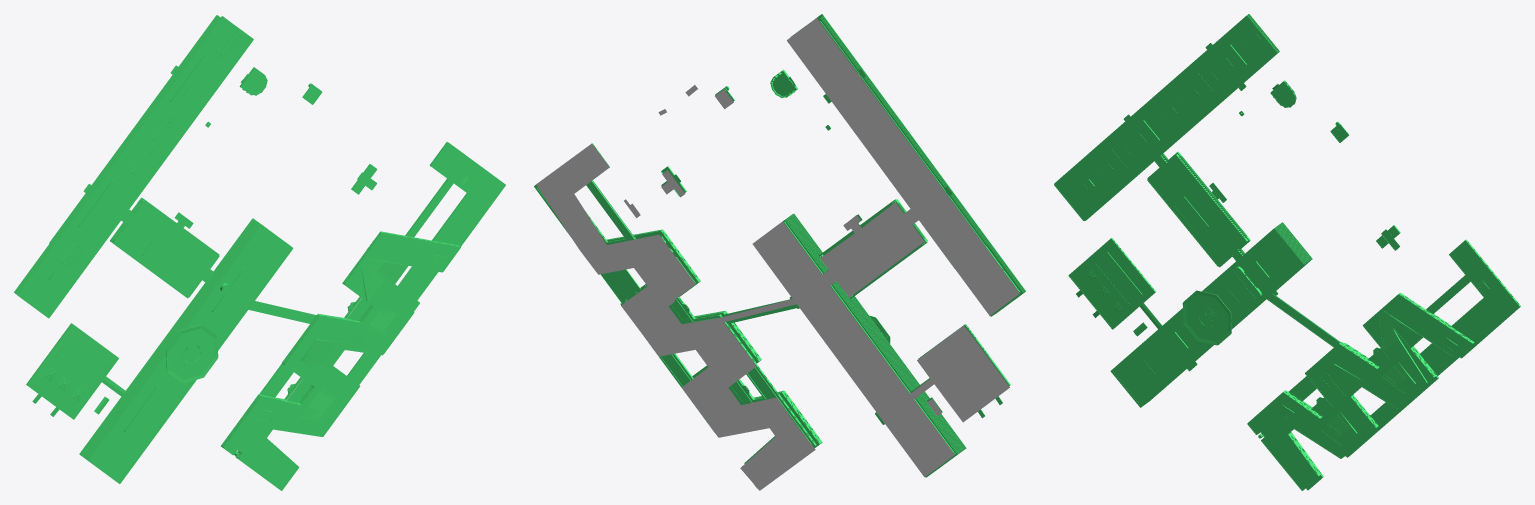
The picture shows the model from 3 angles, left to right: view 1: azimuth 30°, elevation 25°; view 2: azimuth 150°, elevation 25°; view 3: azimuth 330°, elevation 25°; orthographic projection. The views are drawn at different scales.
Size of the model in its own units: 2056 by 1964 by 81.47.
